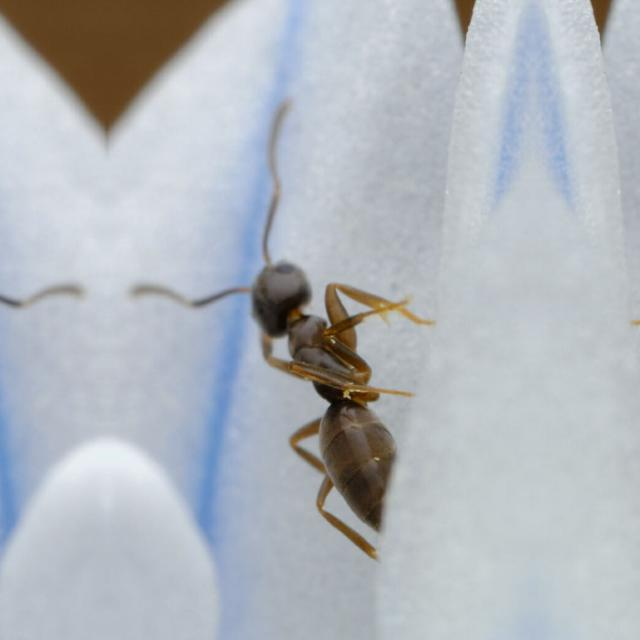Tapinoma: (206, 180, 434, 580)
